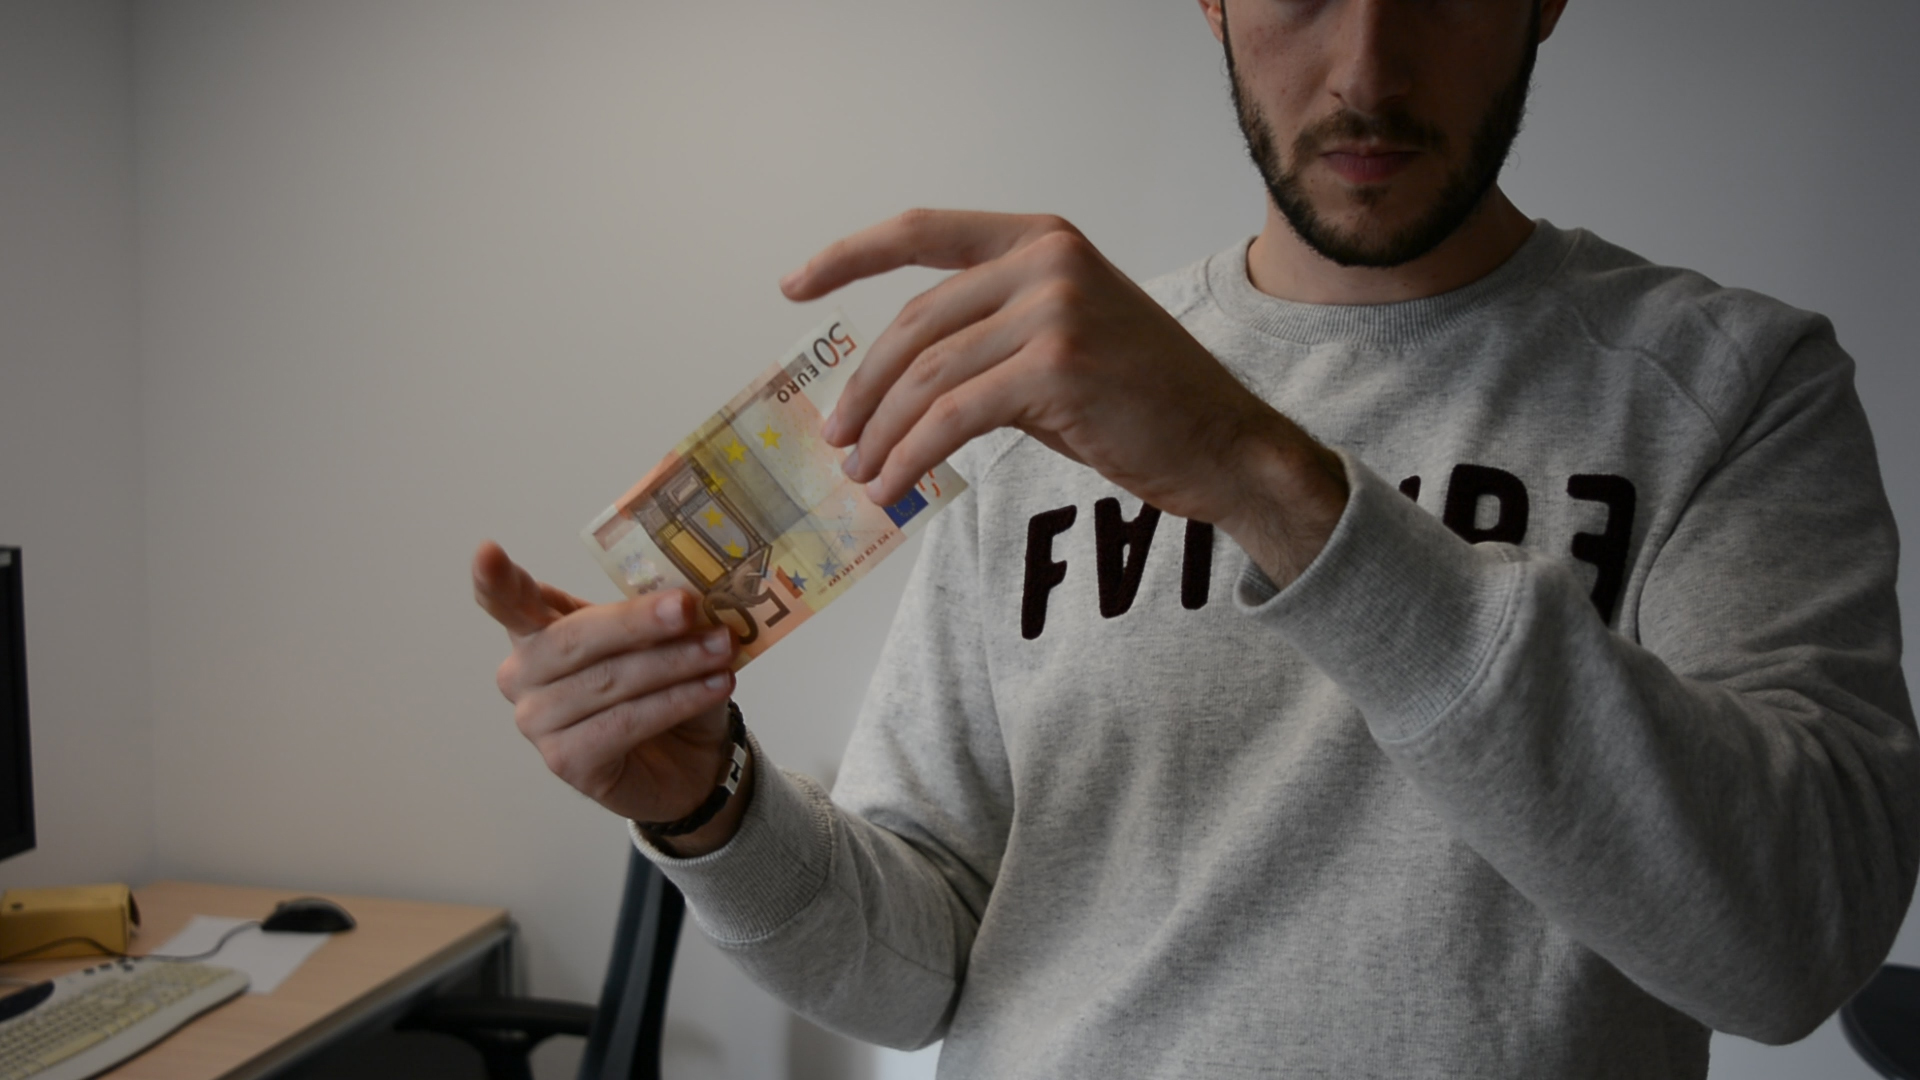billete: (578, 305, 972, 676)
